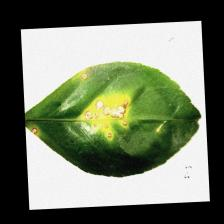canker: (34, 73, 140, 154)
